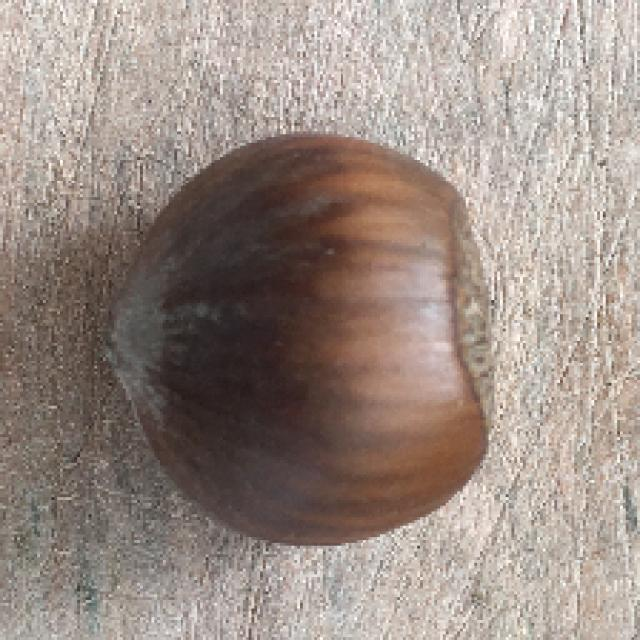damagedHazelnut: (98, 131, 509, 544)
